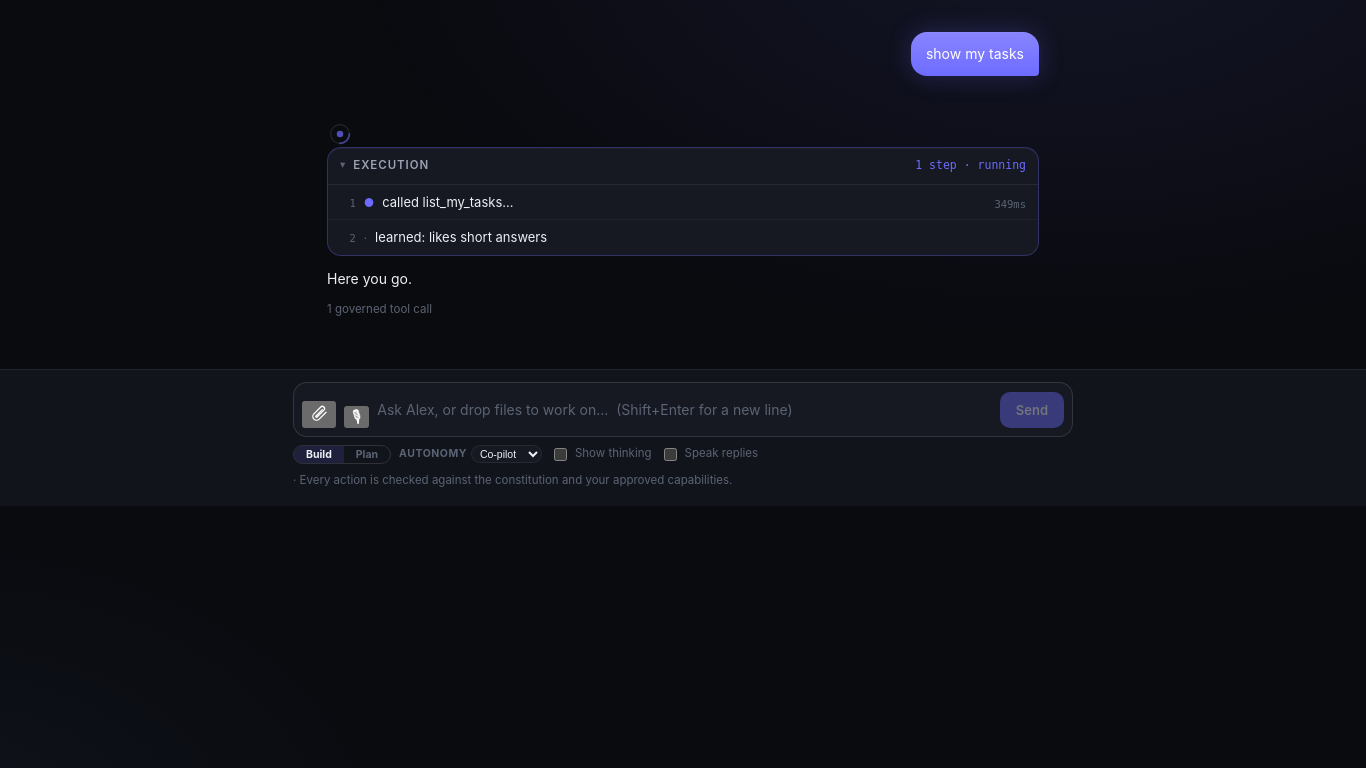
Test case: Chat streaming › Stop aborts the in-flight request cleanly
This screenshot has width=1366, height=768.
Replace the text in the text box with placeholder "Ask Alex" with "slow question" at (685, 409), box 377,391 -> 992,428
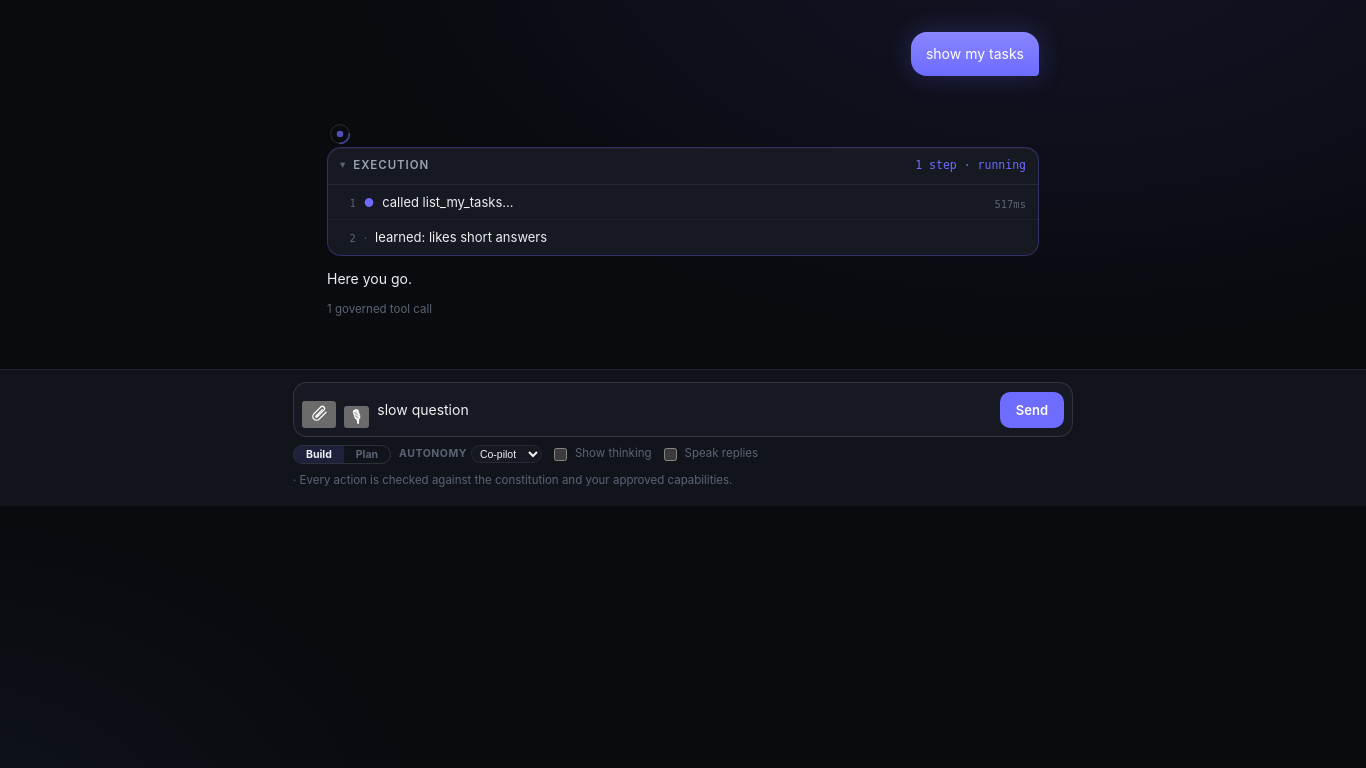
Click the button "Send" at (1032, 410), box 1000,392 -> 1064,428
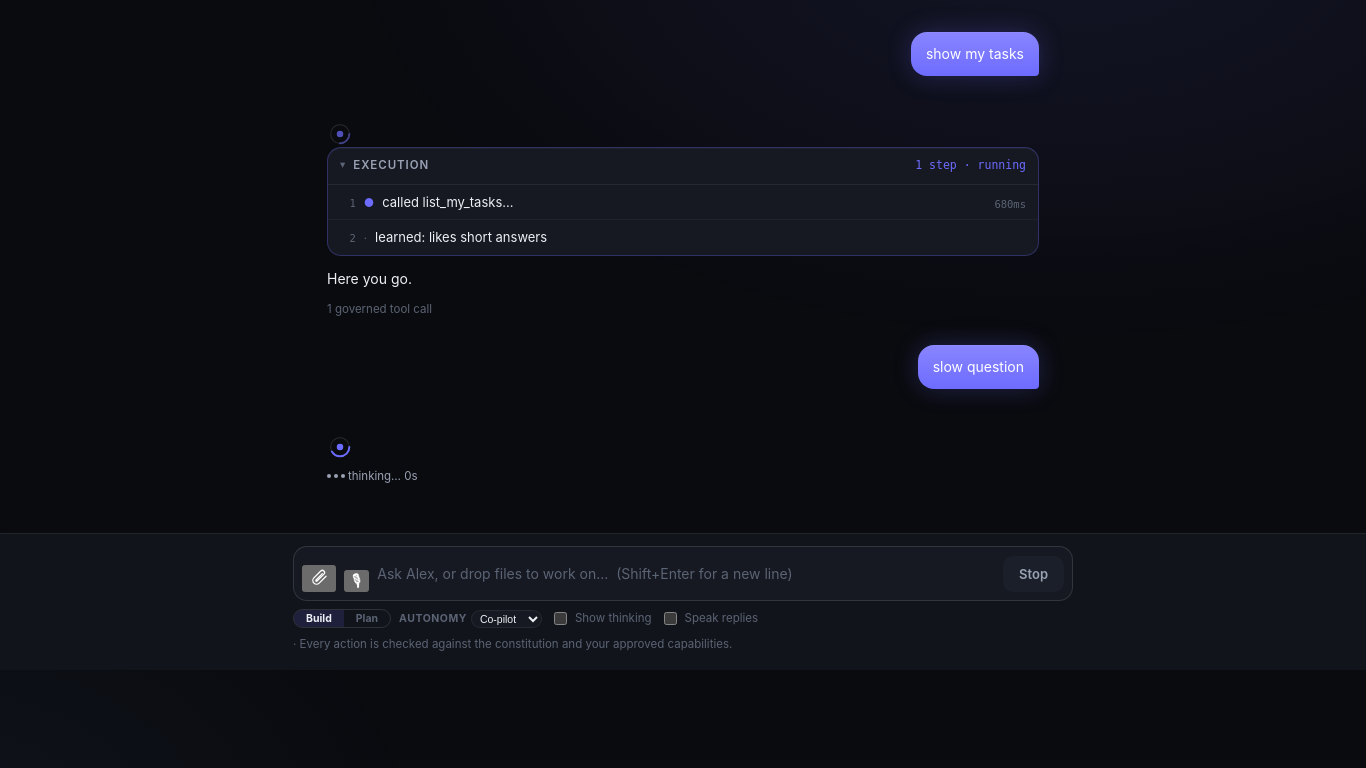
Click the button "Stop" at (1034, 574), box 1003,556 -> 1064,592
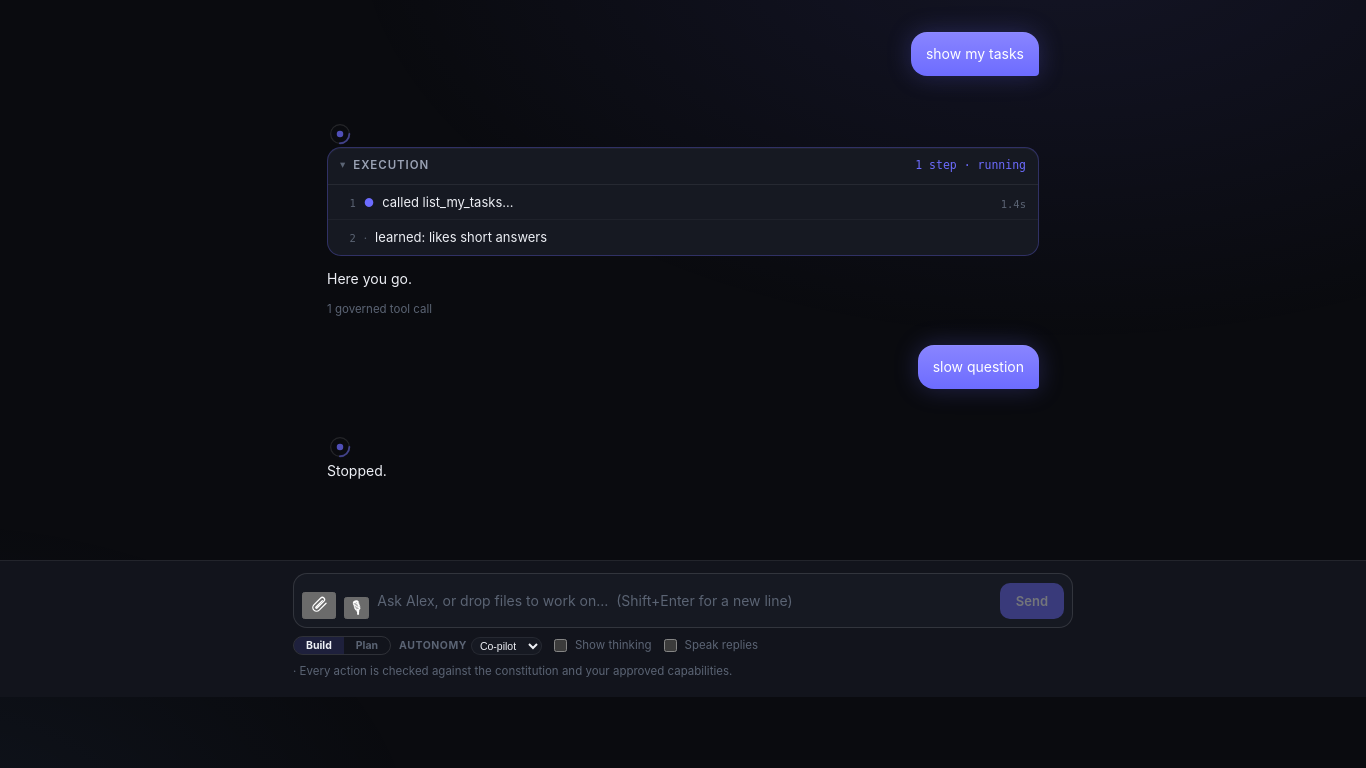
Now the text "Stopped." is shown, box 327,462 -> 387,478
Now the button "Send" is shown, box 1000,583 -> 1064,619
